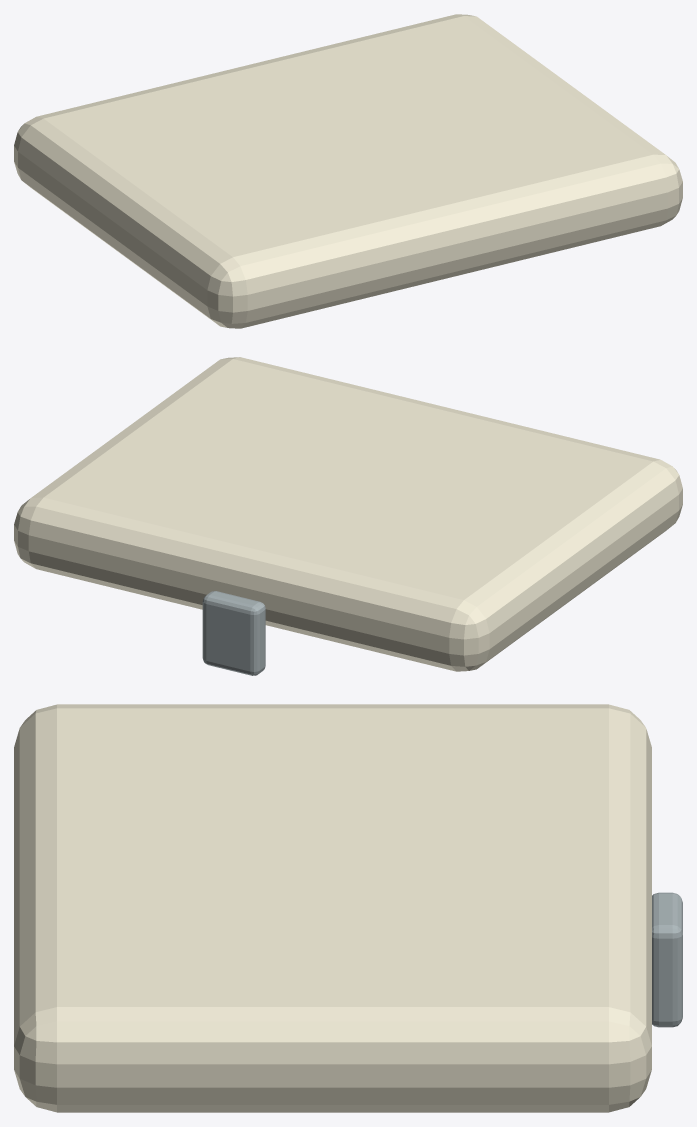
The model's file is cooler_lid.glb.
3 views of the same model, one above another, from view 1: azimuth 30°, elevation 25°; view 2: azimuth 150°, elevation 25°; view 3: azimuth 270°, elevation 25° (orthographic). The views are drawn at different scales.
Visible parts, largest first — view 1: Warm porcelain.003; view 2: Warm porcelain.003, Brushed stainless.003; view 3: Warm porcelain.003, Brushed stainless.003.
Part boxes in pixels (box(x1,y1,x2,y2)): Warm porcelain.003: box(14, 14, 682, 328); Warm porcelain.003: box(14, 357, 682, 671); Brushed stainless.003: box(202, 591, 265, 675); Warm porcelain.003: box(14, 704, 651, 1112); Brushed stainless.003: box(652, 892, 682, 1027).
Size of the model in its own units: 0.46 by 0.098 by 0.388.
